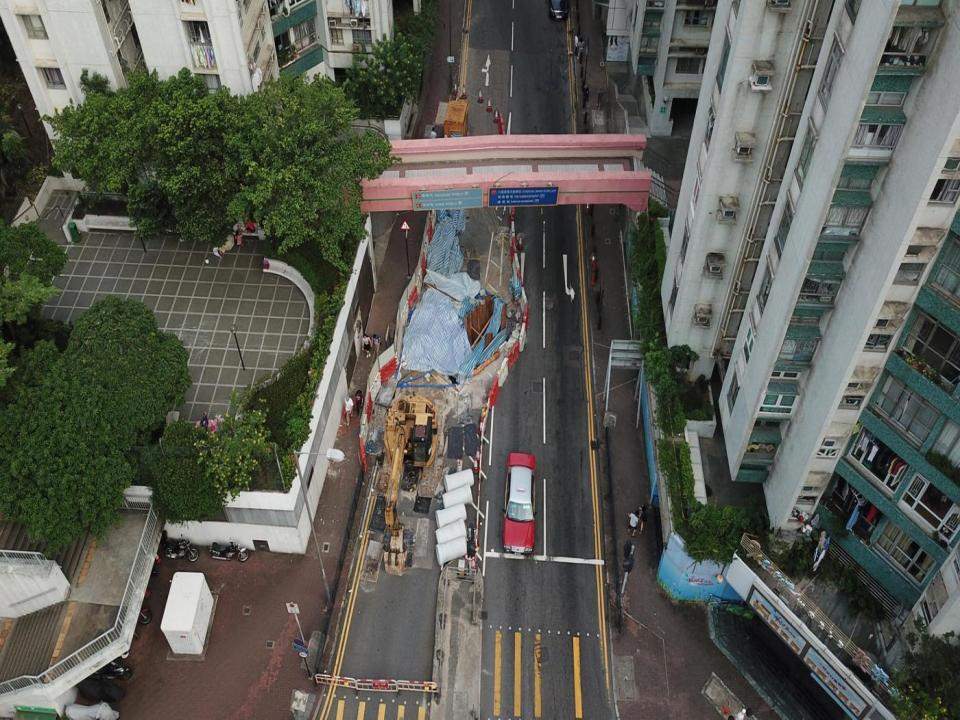car: (502, 452, 537, 553)
